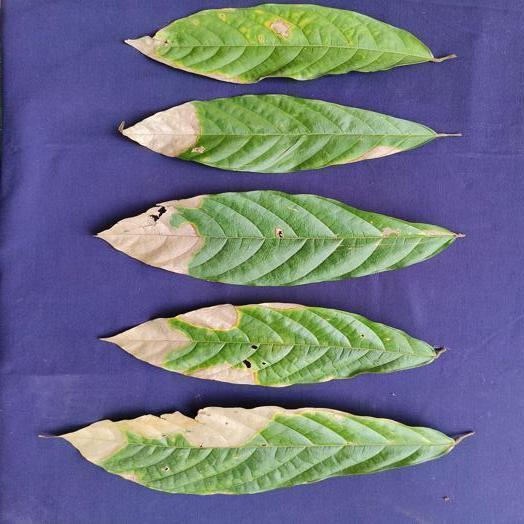Potassium: (59, 406, 465, 494), (99, 190, 461, 285), (103, 303, 443, 386), (121, 94, 458, 172), (127, 3, 455, 83)
